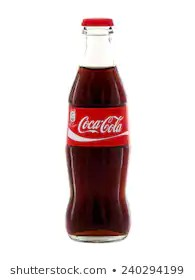coke-glass-bottle: (62, 16, 124, 248)
